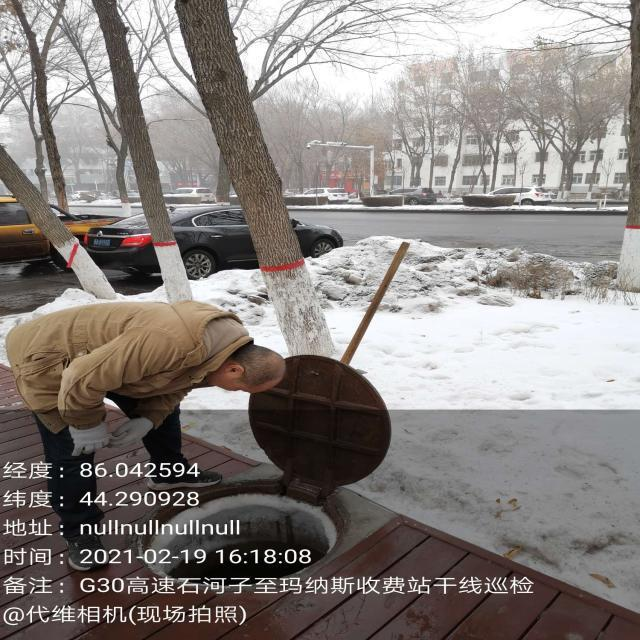manhole: (142, 494, 335, 578)
